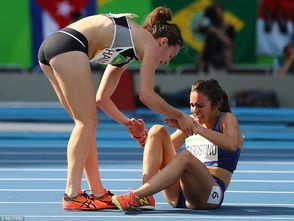falling: (108, 68, 251, 215)
